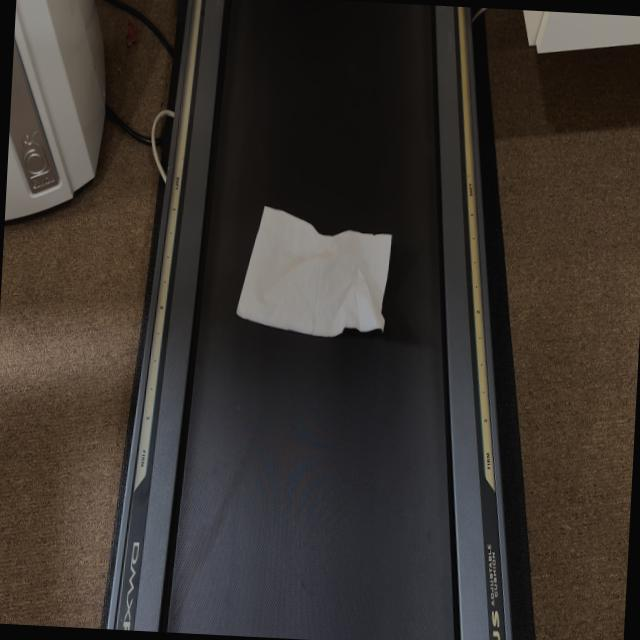Trash: (235, 179, 404, 365)
